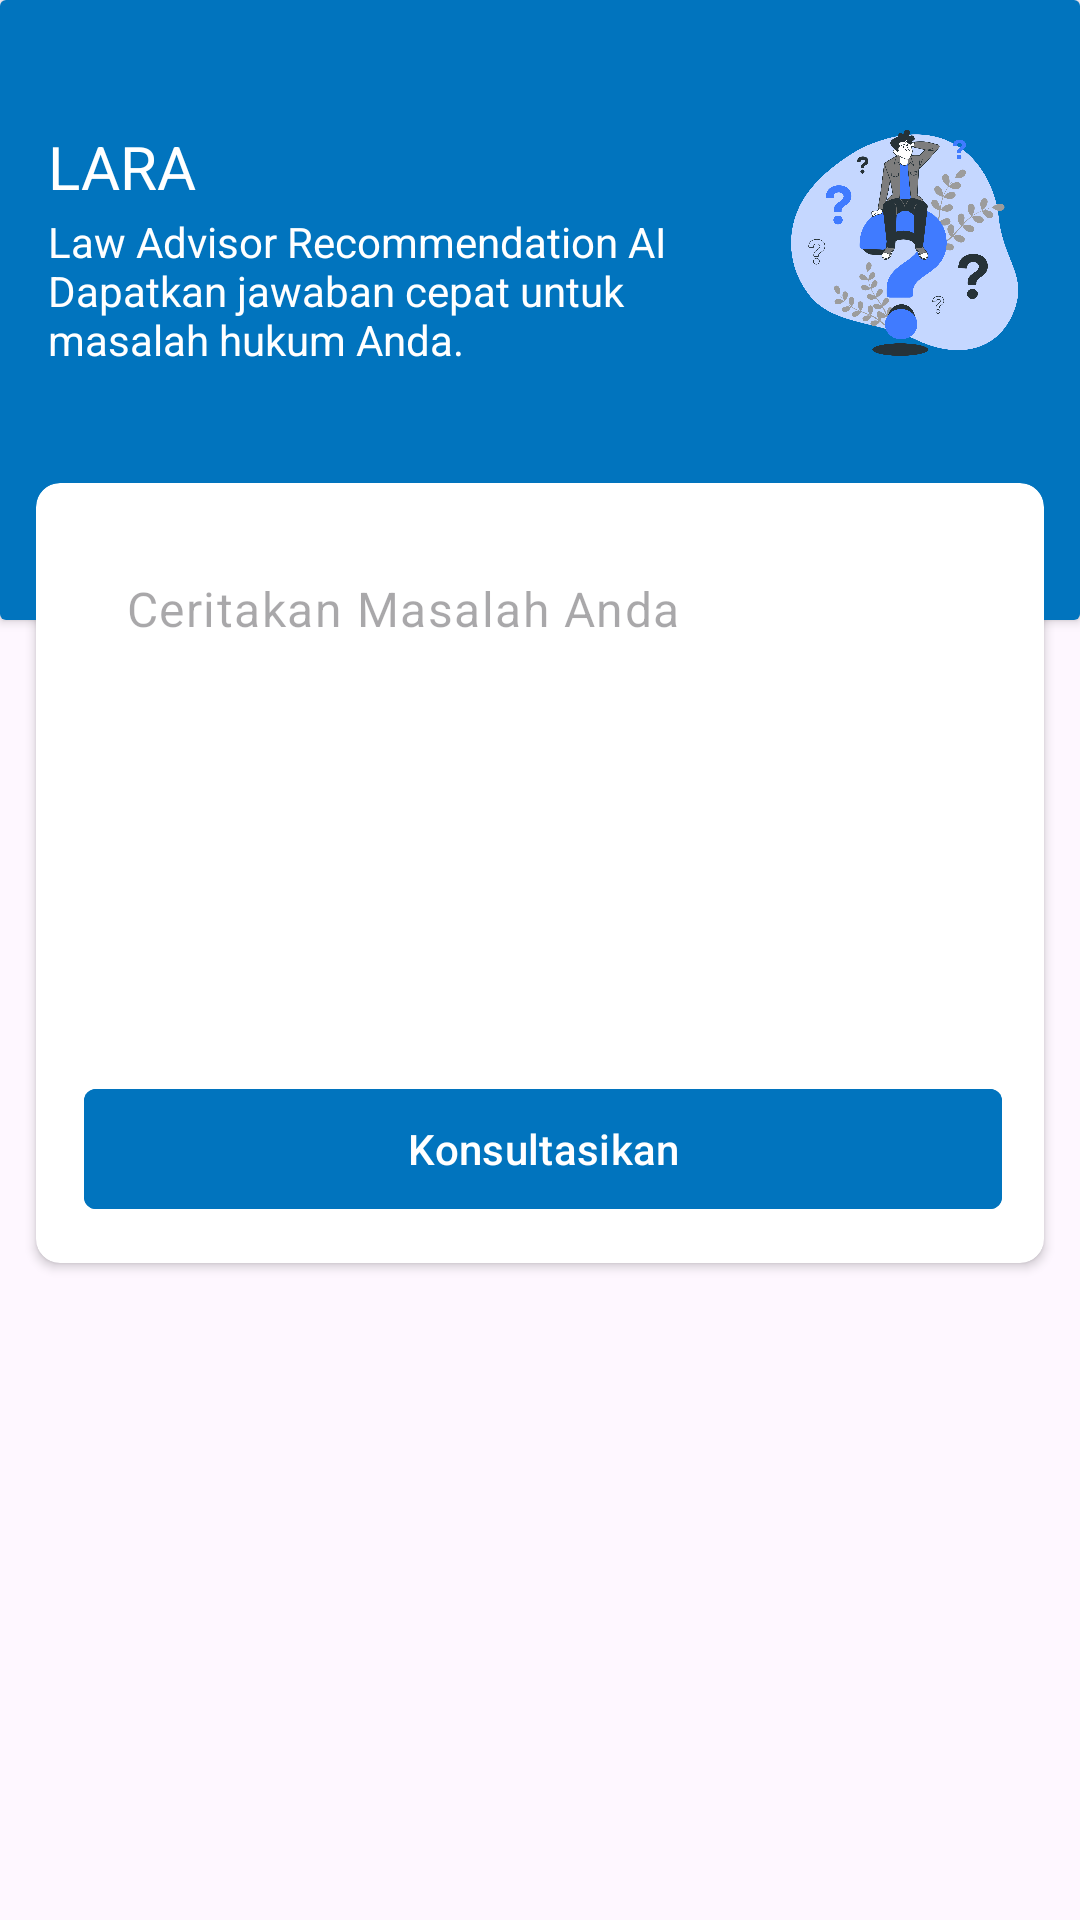

Point at icon controls on the screen. Image size 1080x1920, points as [x,y].
questions: [904,243]
